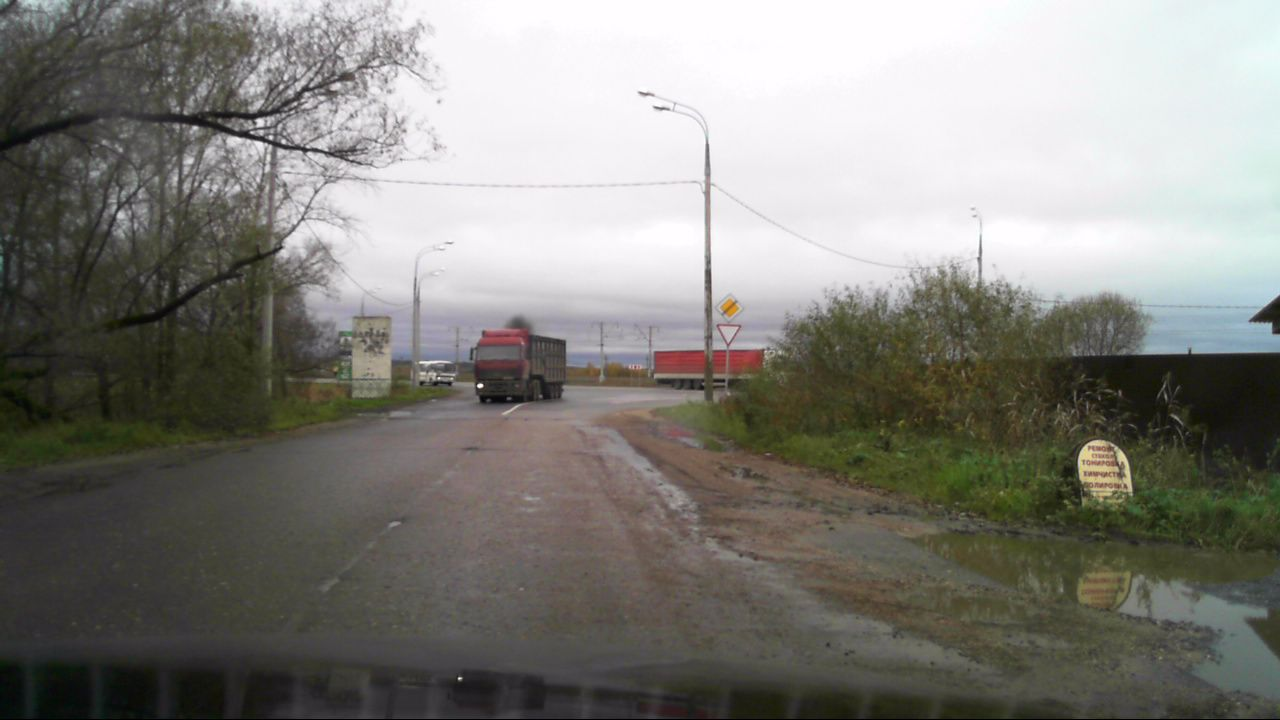main road: (713, 292, 744, 324)
